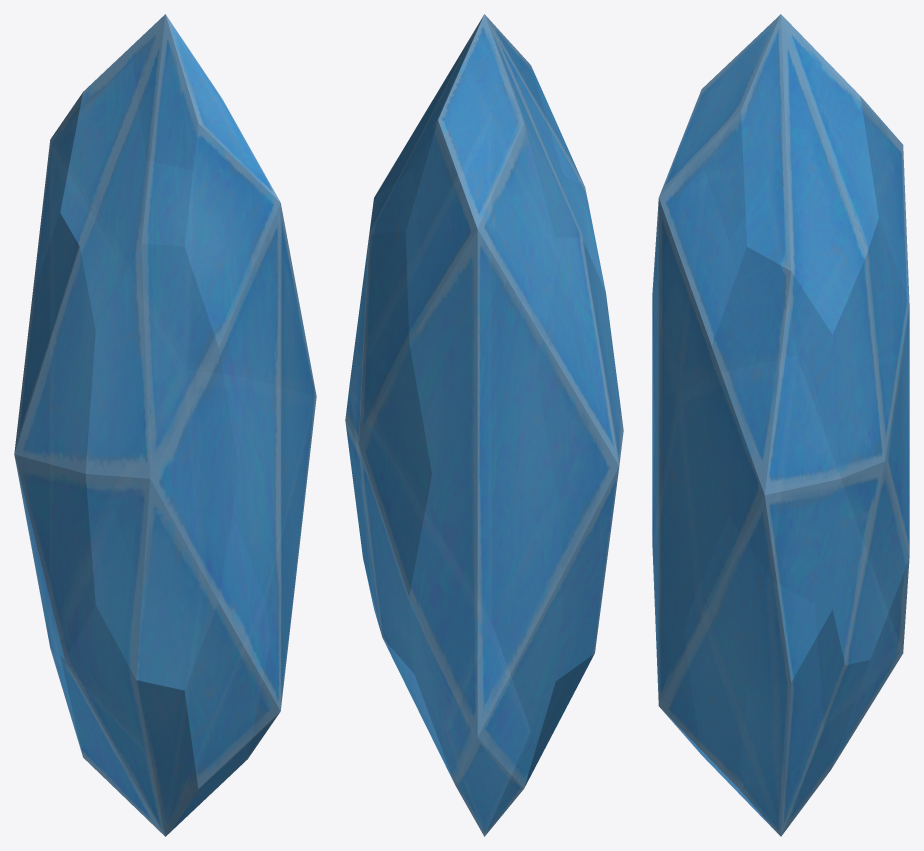
File: TwinPoinrCrystal1test2.fbx
3 renders of one model, left to right at view 1: azimuth 30°, elevation 25°; view 2: azimuth 150°, elevation 25°; view 3: azimuth 270°, elevation 25°, orthographic.
Parts seen in each view (by area): view 1: TwinpointCrystalAsset; view 2: TwinpointCrystalAsset; view 3: TwinpointCrystalAsset.
Part boxes in pixels (x1=…): TwinpointCrystalAsset: x1=14, y1=14, x2=316, y2=836; TwinpointCrystalAsset: x1=345, y1=14, x2=623, y2=836; TwinpointCrystalAsset: x1=652, y1=14, x2=909, y2=836.
Bounding box in the file's own units: 9.67 × 26.57 × 7.52.
Materials: 1 (1 with a texture image).
